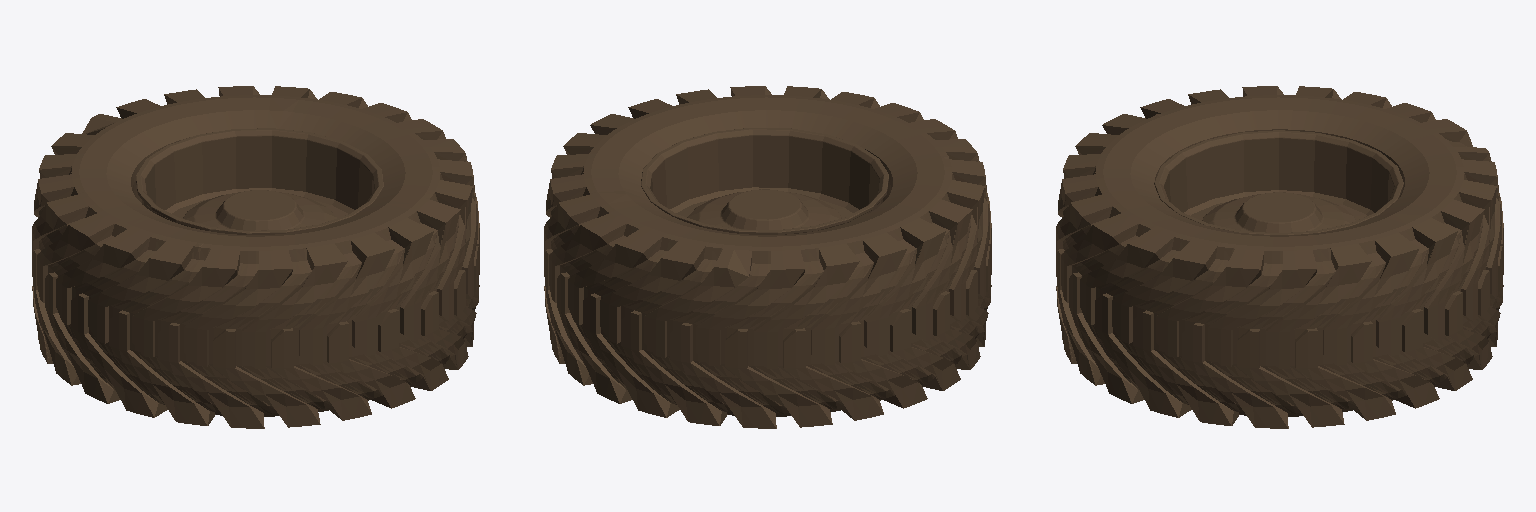
Rendered from deliverybot_wheel_left.obj.
3 renders of one model, left to right at view 1: azimuth 30°, elevation 25°; view 2: azimuth 150°, elevation 25°; view 3: azimuth 270°, elevation 25°, orthographic.
Visible parts, largest first — view 1: wheel.002; view 2: wheel.002; view 3: wheel.002.
Part boxes in pixels (left/top/right/bottom): wheel.002: left=32, top=86, right=479, bottom=428; wheel.002: left=544, top=86, right=991, bottom=428; wheel.002: left=1056, top=86, right=1503, bottom=428.
Size of the model in its own units: 0.452 by 0.187 by 0.452.